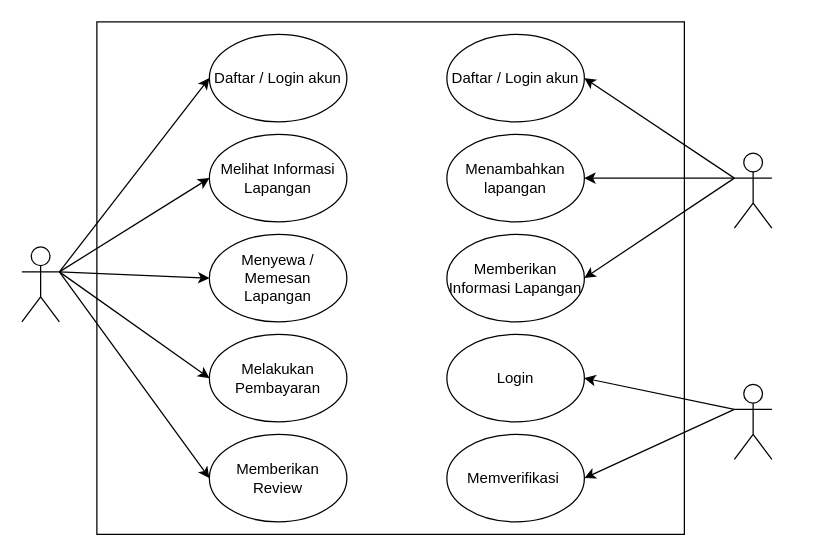
This 834x556 diagram has some shape labels left out. The shapes that lost their labels are listed below. From the top down, each one's box as (x1, y1, x2, y2) in pixels, then its label:
(733, 152, 772, 228): Pemilik Lapangan
(21, 246, 59, 322): User
(733, 383, 772, 459): Admin
